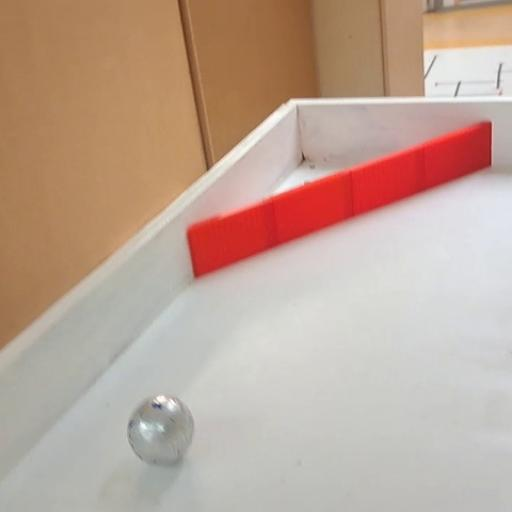alive: (126, 393, 196, 466)
